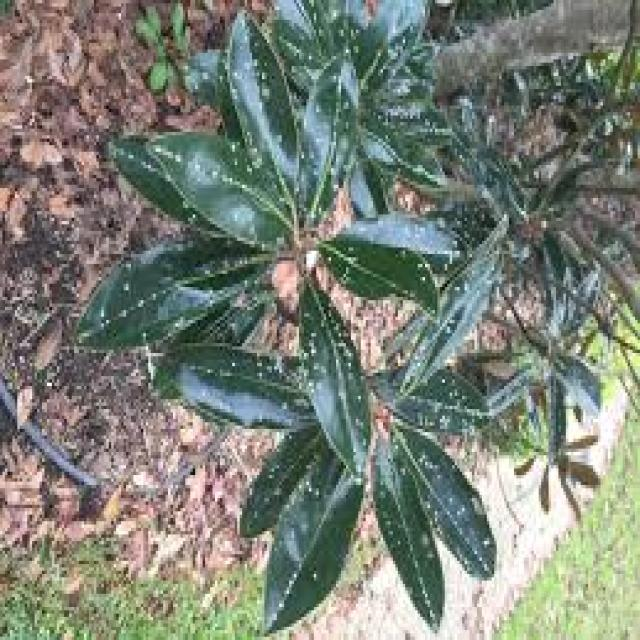scale_insect: (302, 138, 316, 162), (296, 360, 312, 380), (131, 290, 146, 310), (257, 488, 272, 508), (158, 165, 173, 185), (309, 478, 321, 502), (116, 300, 129, 320), (306, 564, 319, 584), (395, 458, 408, 478), (457, 274, 470, 294), (321, 248, 334, 268), (227, 148, 240, 168), (254, 62, 267, 82), (338, 92, 351, 112), (395, 240, 408, 260), (437, 254, 450, 274), (442, 248, 455, 268), (454, 386, 470, 402), (304, 323, 319, 340), (447, 277, 462, 294), (116, 274, 131, 290), (94, 314, 106, 334), (146, 284, 158, 304), (277, 392, 289, 412), (356, 429, 368, 449), (455, 494, 467, 514), (440, 316, 452, 336), (341, 238, 356, 254), (225, 135, 237, 155), (294, 142, 306, 162), (309, 96, 321, 116), (250, 353, 264, 369), (247, 501, 260, 518), (380, 511, 393, 528), (415, 445, 428, 462), (442, 488, 455, 505), (415, 267, 428, 284), (410, 254, 423, 271), (442, 310, 455, 327), (205, 162, 218, 178), (306, 162, 319, 178), (94, 300, 106, 317), (262, 465, 274, 482), (383, 521, 395, 538), (435, 369, 447, 386), (306, 340, 316, 360), (420, 492, 430, 512), (272, 126, 282, 146), (338, 112, 348, 132), (225, 353, 237, 369), (351, 386, 363, 402), (252, 363, 262, 379), (412, 449, 422, 465), (447, 231, 457, 247), (124, 146, 134, 158), (331, 324, 341, 336), (437, 409, 445, 419)
